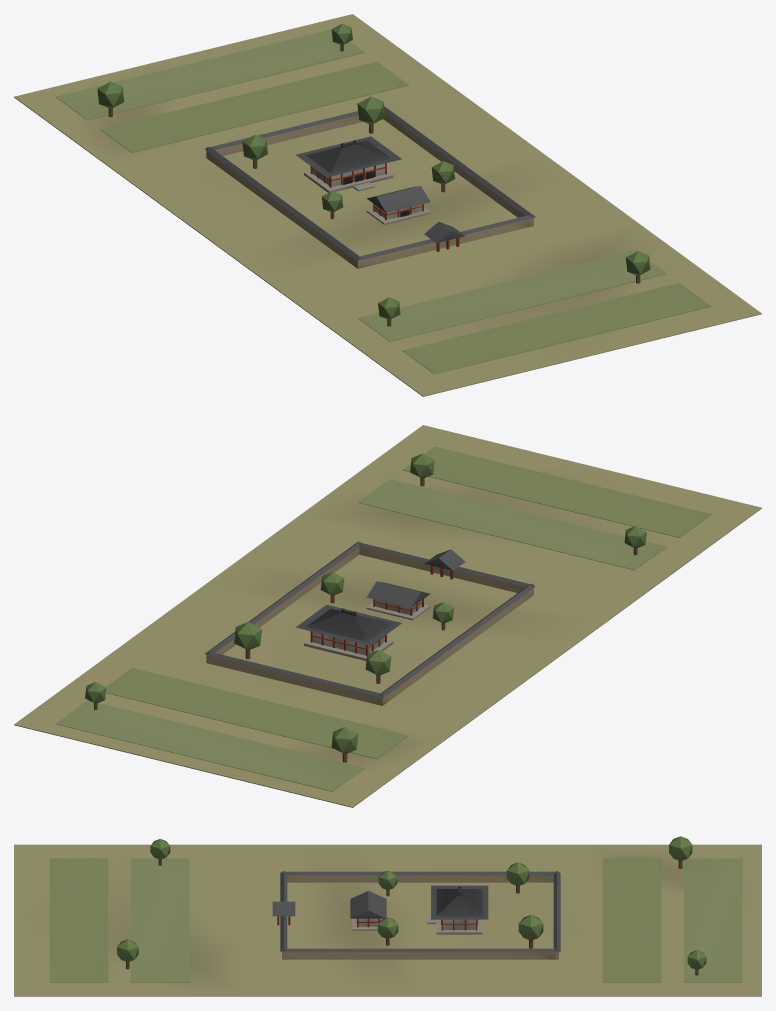
File: guangji-early.glb
3 renders of one model, top to bottom at view 1: azimuth 30°, elevation 25°; view 2: azimuth 150°, elevation 25°; view 3: azimuth 270°, elevation 25°, orthographic. The views are drawn at different scales.
Visible parts, largest first — view 1: p0_walls, p2_trees, p1_halls; view 2: p0_walls, p2_trees, p1_halls; view 3: p0_walls, p2_trees, p1_halls.
Boxes of the visible parts, x1=… form: p0_walls: x1=14, y1=14, x2=761, y2=396; p2_trees: x1=97, y1=23, x2=650, y2=326; p1_halls: x1=304, y1=163, x2=465, y2=251; p0_walls: x1=14, y1=425, x2=761, y2=807; p2_trees: x1=85, y1=453, x2=646, y2=762; p1_halls: x1=304, y1=549, x2=465, y2=660; p0_walls: x1=14, y1=844, x2=761, y2=996; p2_trees: x1=117, y1=836, x2=706, y2=975; p1_halls: x1=272, y1=901, x2=482, y2=934.
Size of the model in its own units: 110 by 11.52 by 230.
